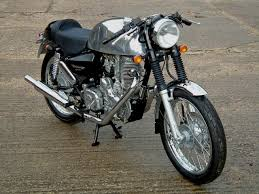bike: (33, 13, 239, 187)
